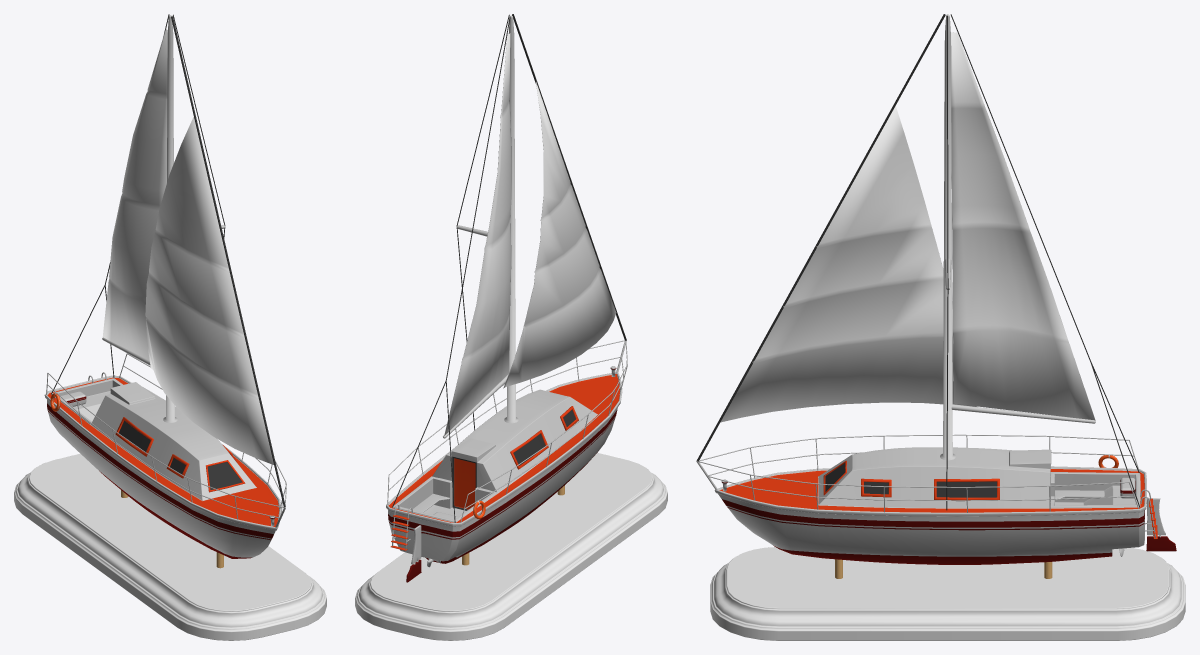
Rendered from Placeholdership.fbx.
3 renders of one model, left to right at view 1: azimuth 30°, elevation 25°; view 2: azimuth 150°, elevation 25°; view 3: azimuth 270°, elevation 25°, orthographic. The views are drawn at different scales.
Parts seen in each view (by area): view 1: sails, Ship miniature, boat, windows, rails, shaft, ropes2; view 2: Ship miniature, sails, boat, shaft, rails, ropes, windows, ropes2; view 3: sails, boat, Ship miniature, shaft, rails, windows, ropes2, ropes.
Boxes of the visible parts, x1,y1,x2,y2 form: sails: [102, 29, 273, 464]; Ship miniature: [14, 453, 326, 640]; boat: [44, 375, 281, 558]; windows: [115, 417, 245, 492]; rails: [46, 285, 286, 519]; shaft: [102, 15, 225, 422]; ropes2: [171, 16, 285, 527]; Ship miniature: [355, 453, 667, 640]; sails: [444, 33, 616, 435]; boat: [386, 366, 622, 582]; shaft: [443, 15, 518, 438]; rails: [387, 340, 627, 522]; ropes: [446, 14, 510, 430]; windows: [510, 406, 578, 469]; ropes2: [512, 14, 626, 373]; sails: [720, 32, 1095, 422]; boat: [714, 447, 1176, 564]; Ship miniature: [710, 547, 1185, 640]; shaft: [940, 14, 1095, 460]; rails: [698, 361, 1139, 512]; windows: [823, 460, 999, 500]; ropes2: [696, 14, 945, 489]; ropes: [946, 14, 1090, 510].
Bounding box in the file's own units: 5.26 × 19.16 × 14.41.
